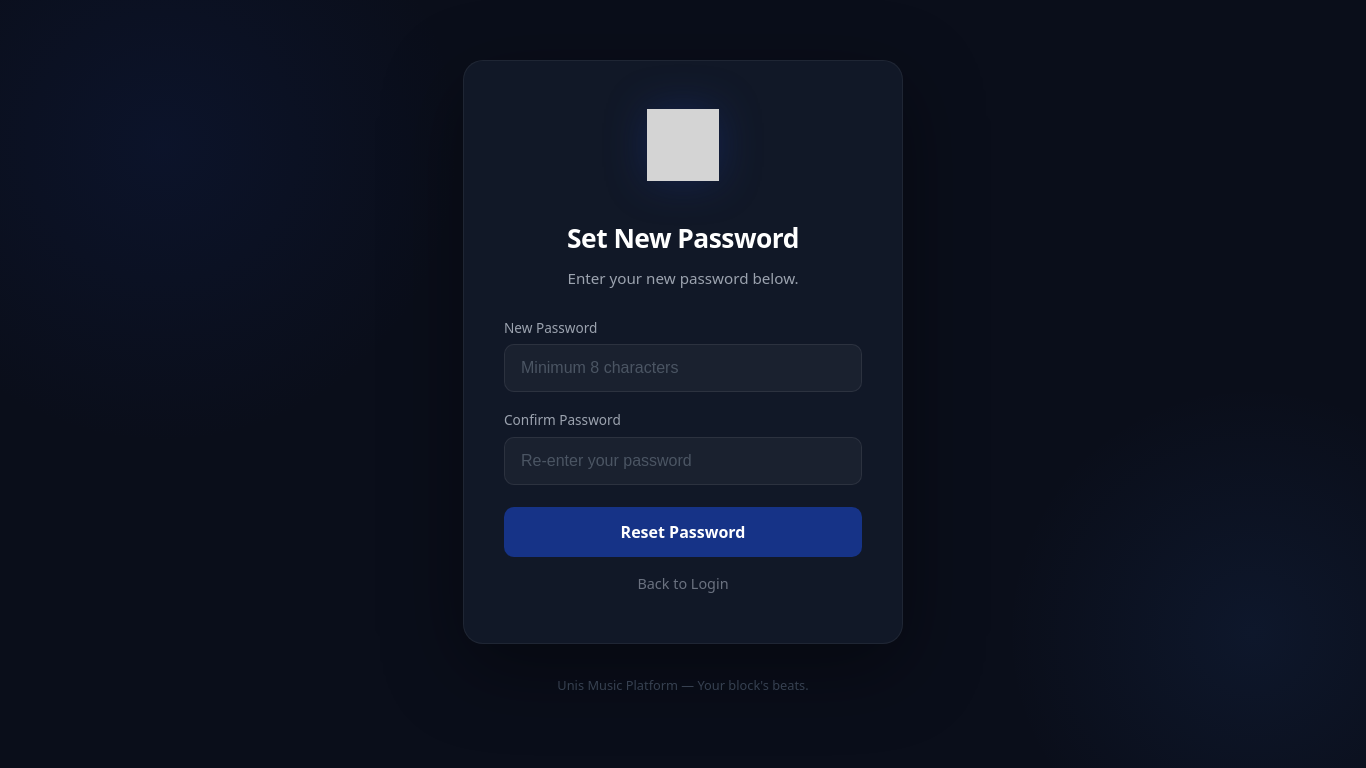
API error handling › transitions to error state for: Token has expired
Type "newpassword123" into the password field with placeholder "Minimum 8 characters". click: (683, 368)
box: [504,344,862,392]
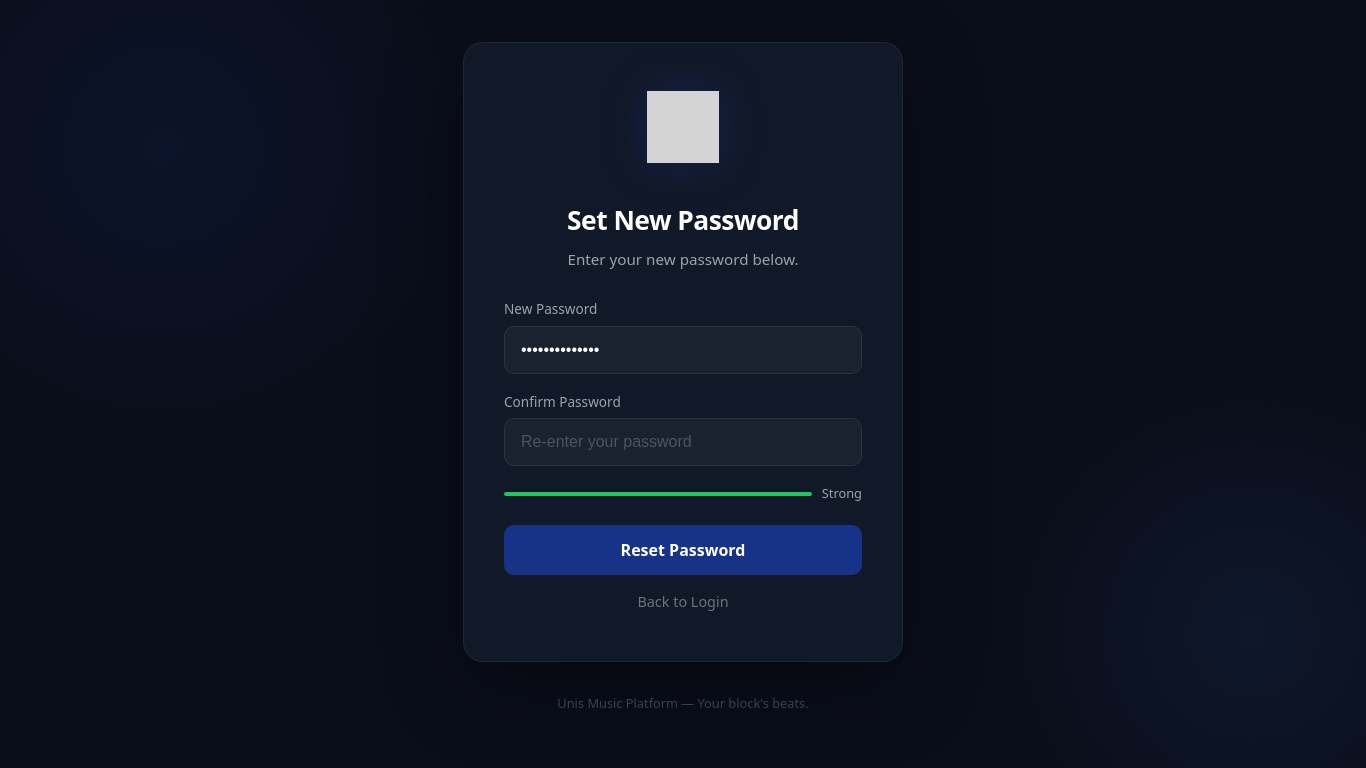
Type "newpassword123" into the password field with placeholder "Re-enter your password". click: (683, 442)
box: [504,418,862,466]
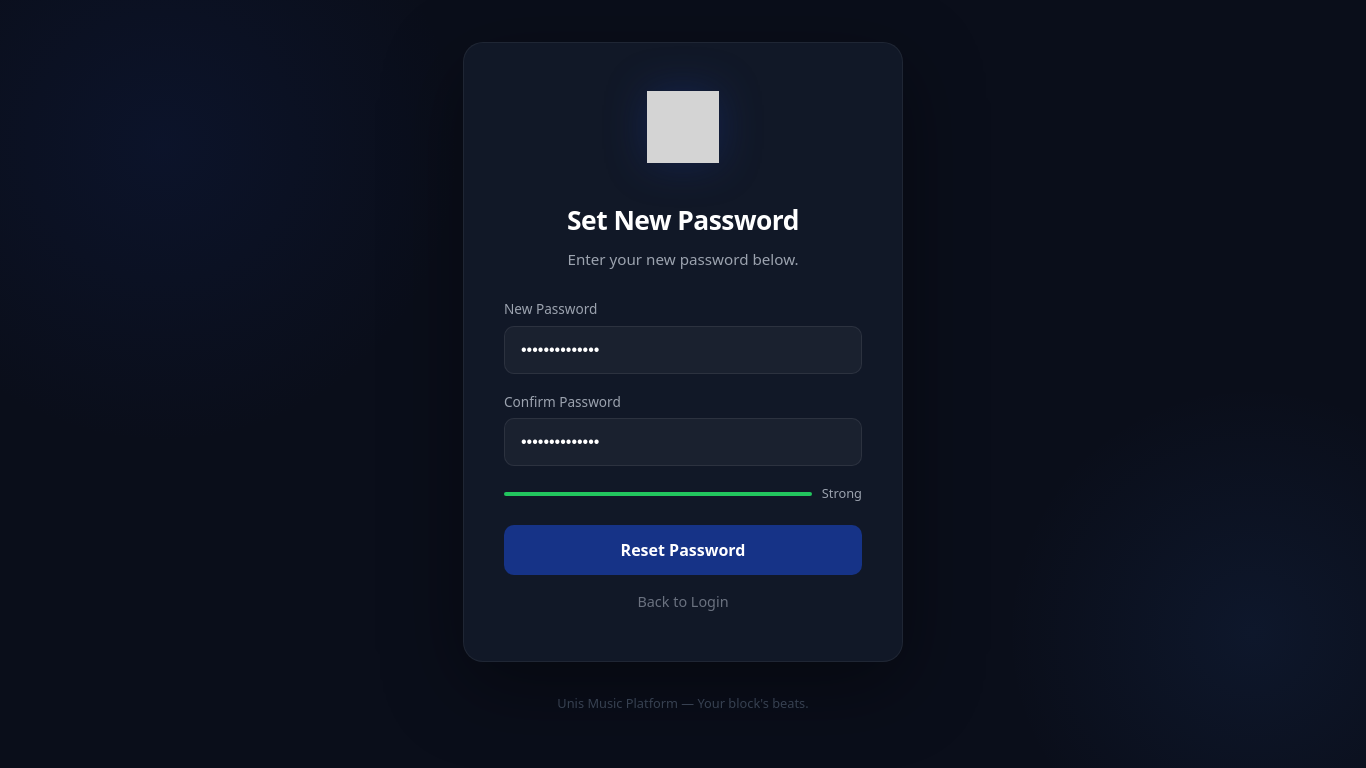
Click the button "Reset Password". click: (683, 550)
box: [504,525,862,575]
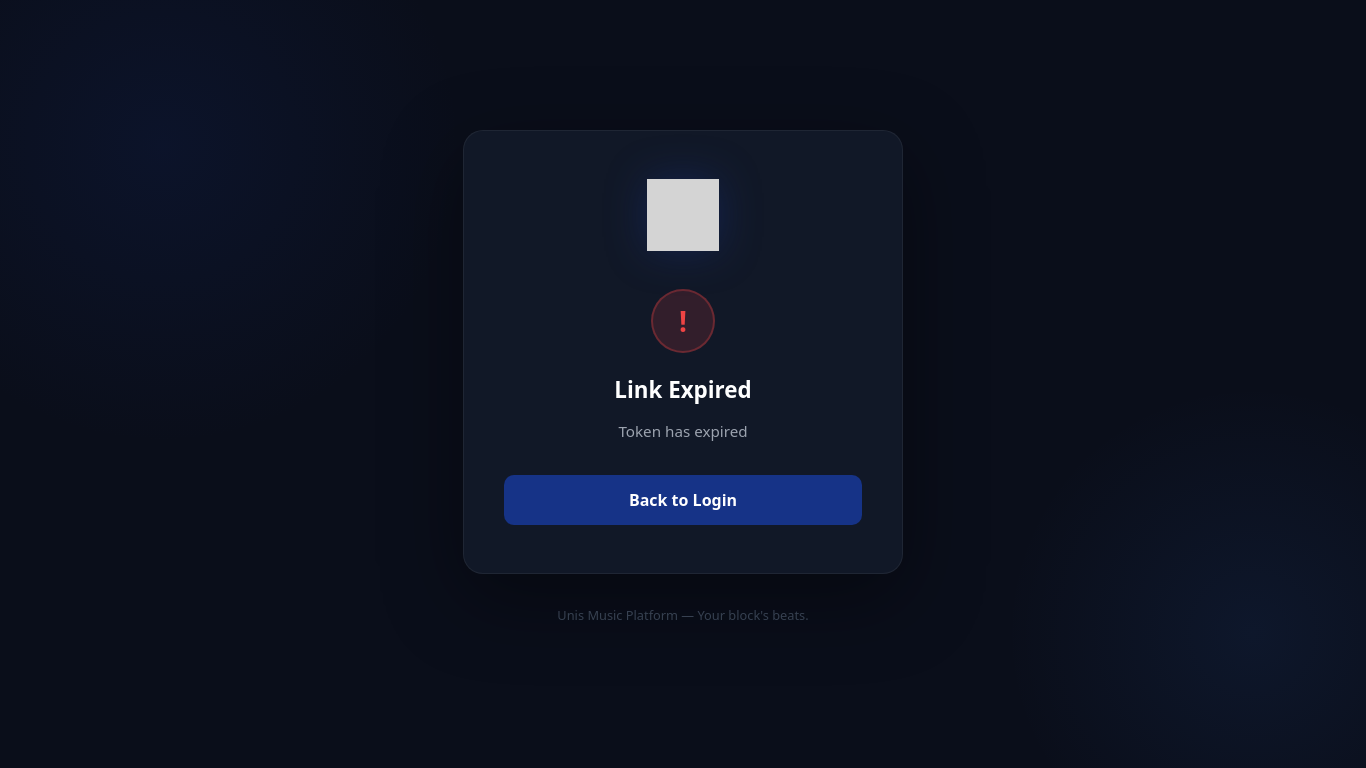
Expected: the heading "Link Expired" is shown, [614,373,752,407]
Expected: the text "Token has expired" is shown, [618,419,748,443]
